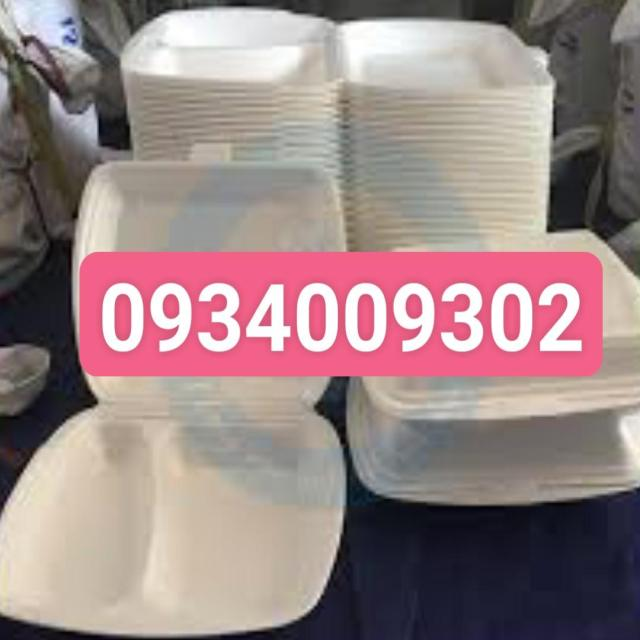styrofoam: (71, 0, 640, 503), (0, 410, 347, 640)
